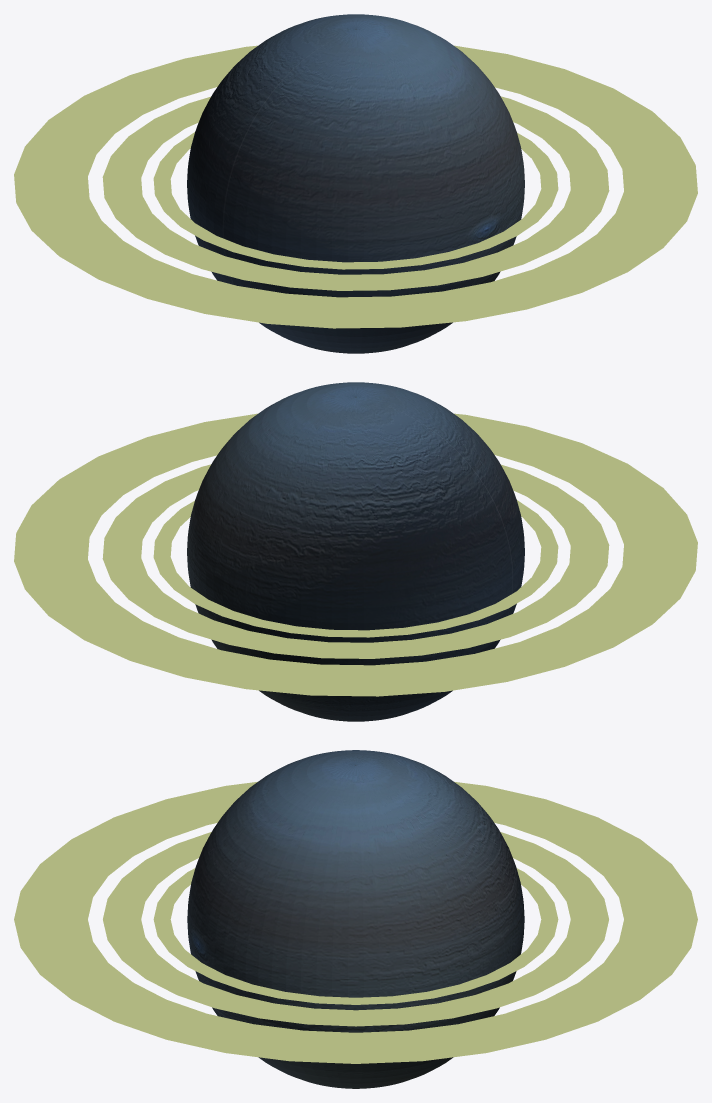
Rendered from urano.obj.
3 renders of one model, top to bottom at view 1: azimuth 30°, elevation 25°; view 2: azimuth 150°, elevation 25°; view 3: azimuth 270°, elevation 25°, orthographic.
Parts seen in each view (by area): view 1: Circle, Sphere; view 2: Circle, Sphere; view 3: Circle, Sphere.
Boxes of the visible parts, x1=… form: Circle: x1=14, y1=45, x2=697, y2=328; Sphere: x1=187, y1=14, x2=524, y2=353; Circle: x1=14, y1=413, x2=697, y2=696; Sphere: x1=187, y1=382, x2=524, y2=721; Circle: x1=14, y1=781, x2=697, y2=1063; Sphere: x1=187, y1=750, x2=524, y2=1088.
Bounding box in the file's own units: 4 × 2 × 4.
Materials: 2 (1 with a texture image).
